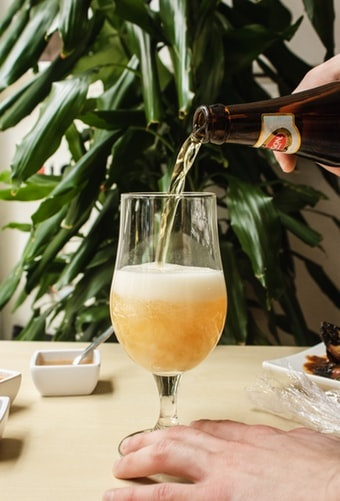whiskey: (112, 190, 228, 460)
